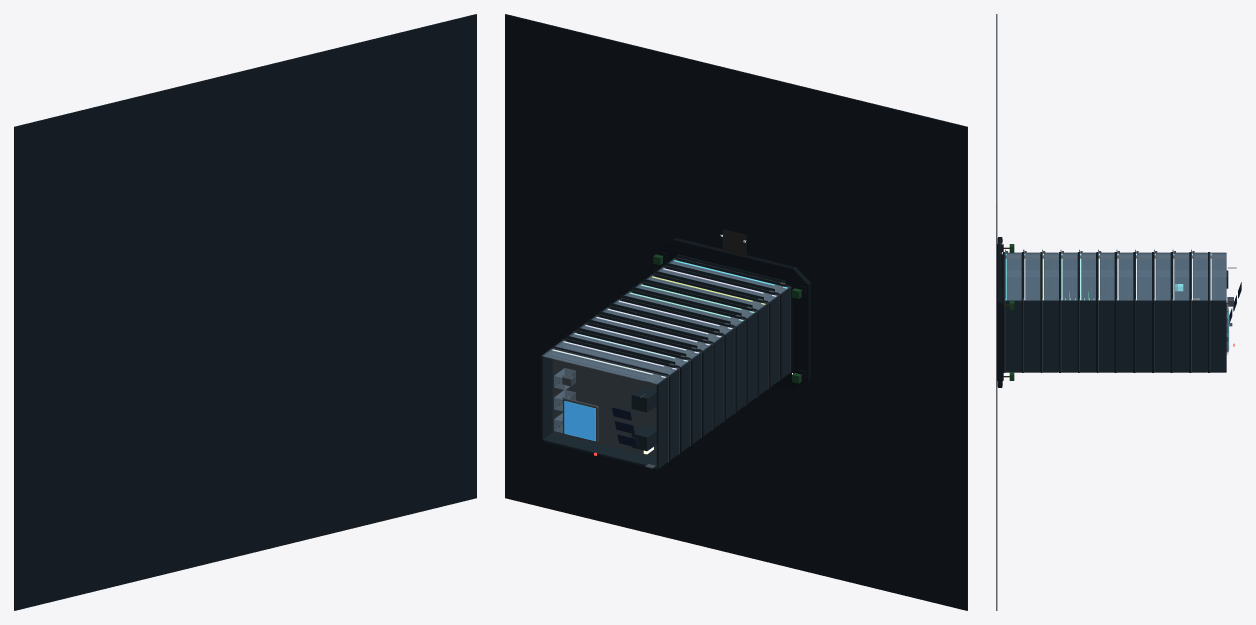
The model's file is atlas-01.glb.
3 renders of one model, left to right at view 1: azimuth 30°, elevation 25°; view 2: azimuth 150°, elevation 25°; view 3: azimuth 270°, elevation 25°, orthographic. The views are drawn at different scales.
Parts seen in each view (by area): view 1: env.ground; view 2: env.ground, skydeck-reservoir.trim, env.podium, skydeck-reservoir.pool.coping, skydeck-reservoir.shell.back, skydeck-reservoir.shell.front, skydeck-reservoir.shell.left, skydeck-reservoir.pool.surface, skydeck-reservoir.shell.right, penthouses.shell.front, residences-b.shell.left, residences-d.shell.left (+21 smaller); view 3: stair.2.shaft, power-ops-core.shell.right, aquaponics-bay.shell.right, residences-a.shell.right, residences-b.shell.right, residences-c.shell.right, residences-d.shell.right, the-lung.shell.right, penthouses.shell.right, skydeck-reservoir.shell.right, commons-clinic.shell.right, reclamation-core.shell.right (+32 smaller).
Boxes of the visible parts, box(x1,y1,x2,y2) form: env.ground: box(14, 14, 476, 610); env.ground: box(505, 14, 967, 610); skydeck-reservoir.trim: box(551, 347, 668, 462); env.podium: box(658, 238, 810, 389); skydeck-reservoir.pool.coping: box(563, 398, 598, 442); skydeck-reservoir.shell.back: box(542, 433, 658, 469); skydeck-reservoir.shell.front: box(542, 349, 666, 384); skydeck-reservoir.shell.left: box(656, 377, 668, 468); skydeck-reservoir.pool.surface: box(564, 401, 595, 441); skydeck-reservoir.shell.right: box(541, 349, 552, 440); penthouses.shell.front: box(555, 341, 677, 374); residences-b.shell.left: box(713, 336, 723, 427); residences-d.shell.left: box(691, 352, 701, 443); stair.2.shaft: box(1006, 270, 1228, 288); power-ops-core.shell.right: box(1042, 300, 1058, 372); aquaponics-bay.shell.right: box(1061, 300, 1077, 372); residences-a.shell.right: box(1098, 300, 1114, 372); residences-b.shell.right: box(1117, 300, 1133, 372); residences-c.shell.right: box(1135, 300, 1151, 372); residences-d.shell.right: box(1154, 300, 1170, 372); the-lung.shell.right: box(1173, 300, 1189, 372); penthouses.shell.right: box(1191, 300, 1207, 372); skydeck-reservoir.shell.right: box(1210, 300, 1226, 372); commons-clinic.shell.right: box(1024, 300, 1040, 372); reclamation-core.shell.right: box(1005, 300, 1021, 372).
Bounding box in the file's own units: 40 × 40 × 21.87.
